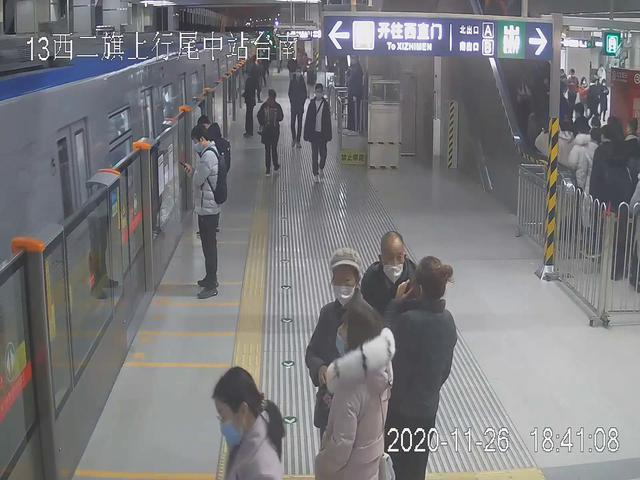person: (394, 253, 458, 480), (365, 223, 421, 480), (308, 246, 369, 480), (320, 304, 392, 480), (201, 362, 283, 480), (184, 125, 221, 301), (304, 82, 338, 184), (256, 88, 288, 173)
